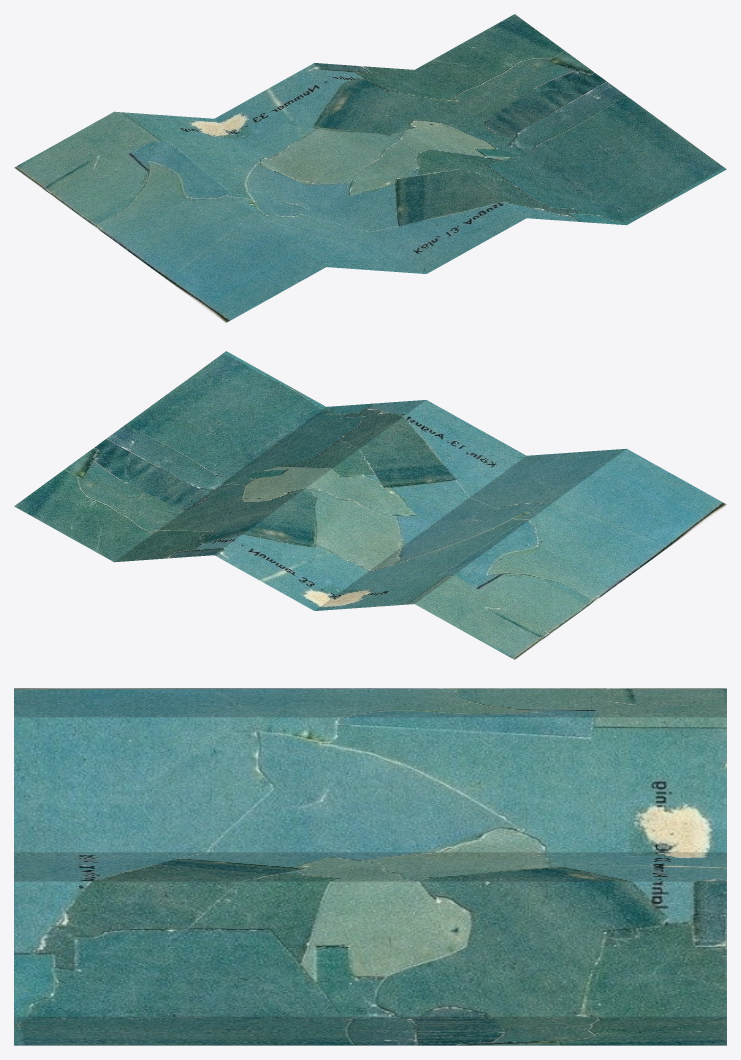
File: blueCollageMap.glb
3 renders of one model, top to bottom at view 1: azimuth 30°, elevation 25°; view 2: azimuth 150°, elevation 25°; view 3: azimuth 270°, elevation 25°, orthographic. The views are drawn at different scales.
Visible parts, largest first — view 1: Plane; view 2: Plane; view 3: Plane.
Part boxes in pixels (x1,y1,x2,y2): Plane: (14, 14, 726, 322); Plane: (14, 351, 726, 659); Plane: (14, 688, 726, 1045).
Size of the model in its own units: 14.19 by 0.852 by 10.42.
Materials: 1 (1 with a texture image).
